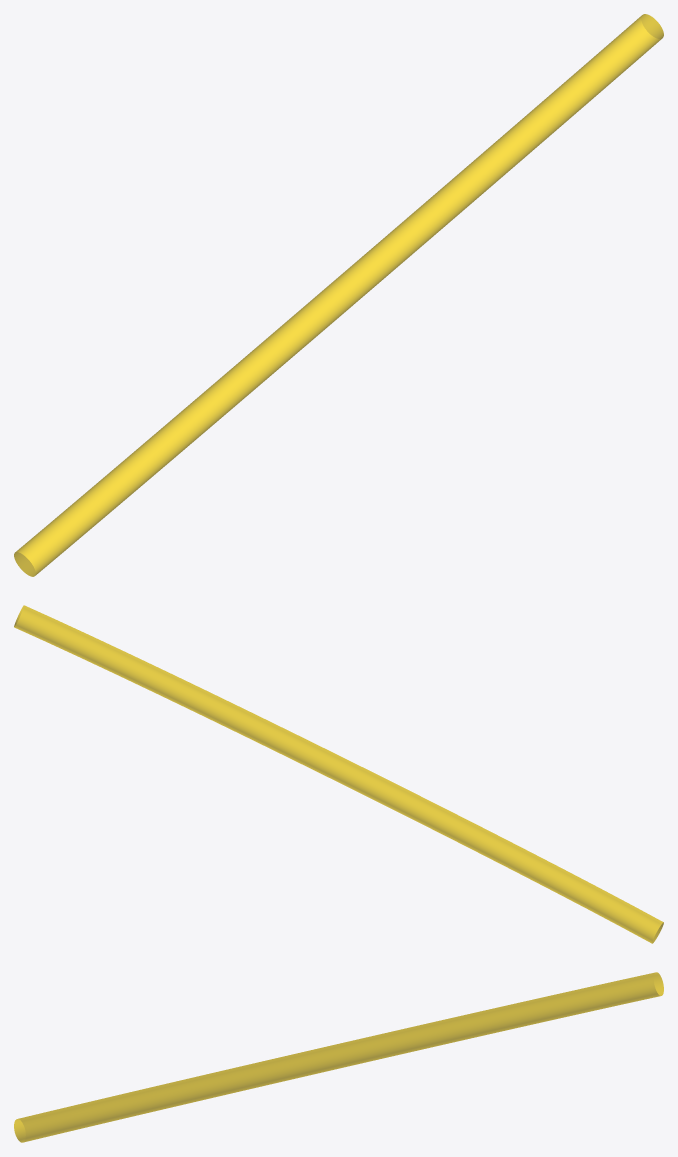
File: Event_84804159_track_28.fbx
The picture shows the model from 3 angles, top to bottom: view 1: azimuth 30°, elevation 25°; view 2: azimuth 150°, elevation 25°; view 3: azimuth 330°, elevation 25°; orthographic projection. The views are drawn at different scales.
Parts seen in each view (by area): view 1: Model; view 2: Model; view 3: Model.
Part boxes in pixels (x1,y1,x2,y2): Model: (14,14,663,576); Model: (14,605,663,943); Model: (14,972,663,1142).
Size of the model in its own units: 1.09 by 0.4567 by 0.2772.
